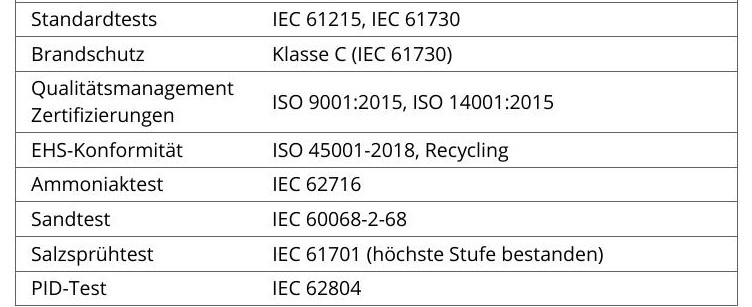table: (2, 1, 752, 307)
table column: (253, 1, 731, 306), (17, 1, 244, 302)
table row: (11, 74, 735, 130), (11, 4, 735, 36), (10, 136, 736, 166), (10, 171, 736, 201), (10, 205, 735, 235), (10, 40, 734, 70), (10, 240, 735, 269), (9, 275, 737, 302)
